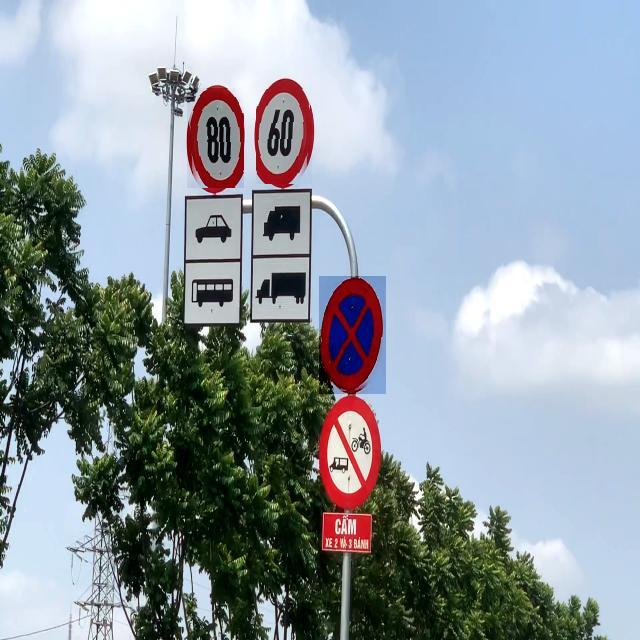P-127: (257, 80, 313, 184), (187, 88, 244, 188)
P-130: (319, 276, 386, 394)
